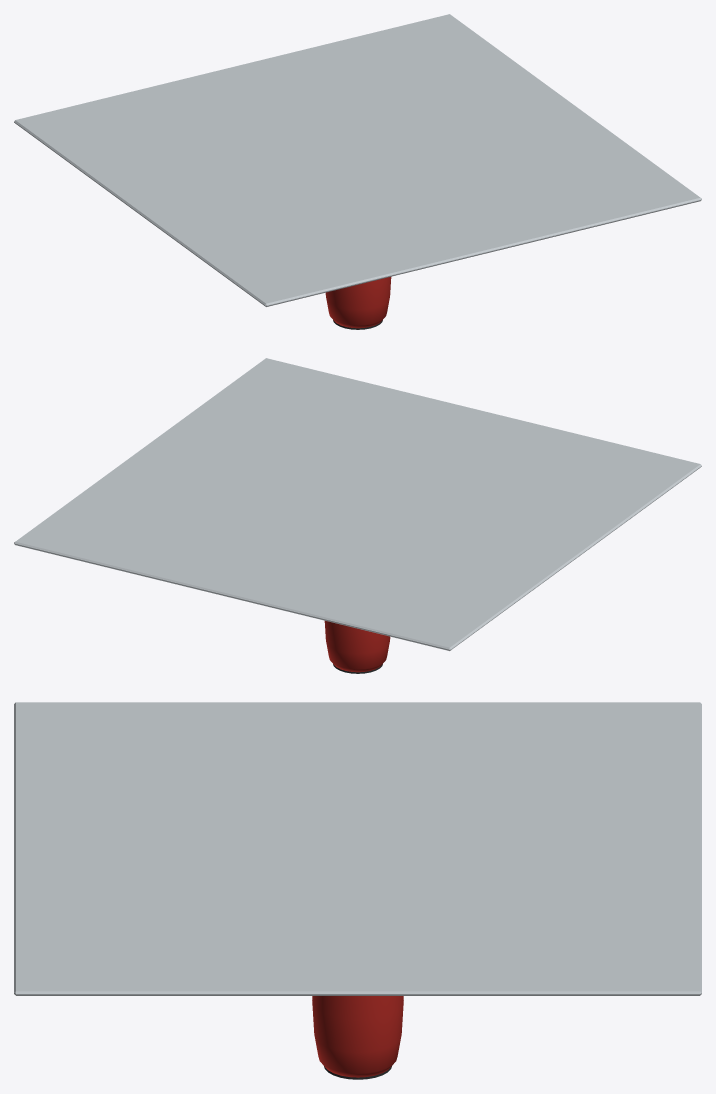
File: A-NEW-20261026-PLASTER-HAWK-001_LOD2_R1.glb
3 views of the same model, one above another, from view 1: azimuth 30°, elevation 25°; view 2: azimuth 150°, elevation 25°; view 3: azimuth 270°, elevation 25° (orthographic). The views are drawn at different scales.
Visible parts, largest first — view 1: thin square aluminum hawk plate, open ended red grip wall; view 2: thin square aluminum hawk plate, open ended red grip wall; view 3: thin square aluminum hawk plate, open ended red grip wall.
Part boxes in pixels (left/top/right/bottom): thin square aluminum hawk plate: left=14, top=14, right=701, bottom=306; open ended red grip wall: left=325, top=277, right=391, bottom=328; thin square aluminum hawk plate: left=14, top=358, right=701, bottom=650; open ended red grip wall: left=324, top=621, right=390, bottom=672; thin square aluminum hawk plate: left=14, top=702, right=701, bottom=995; open ended red grip wall: left=312, top=996, right=403, bottom=1077.
Size of the model in its own units: 0.3302 by 0.1158 by 0.3302.
